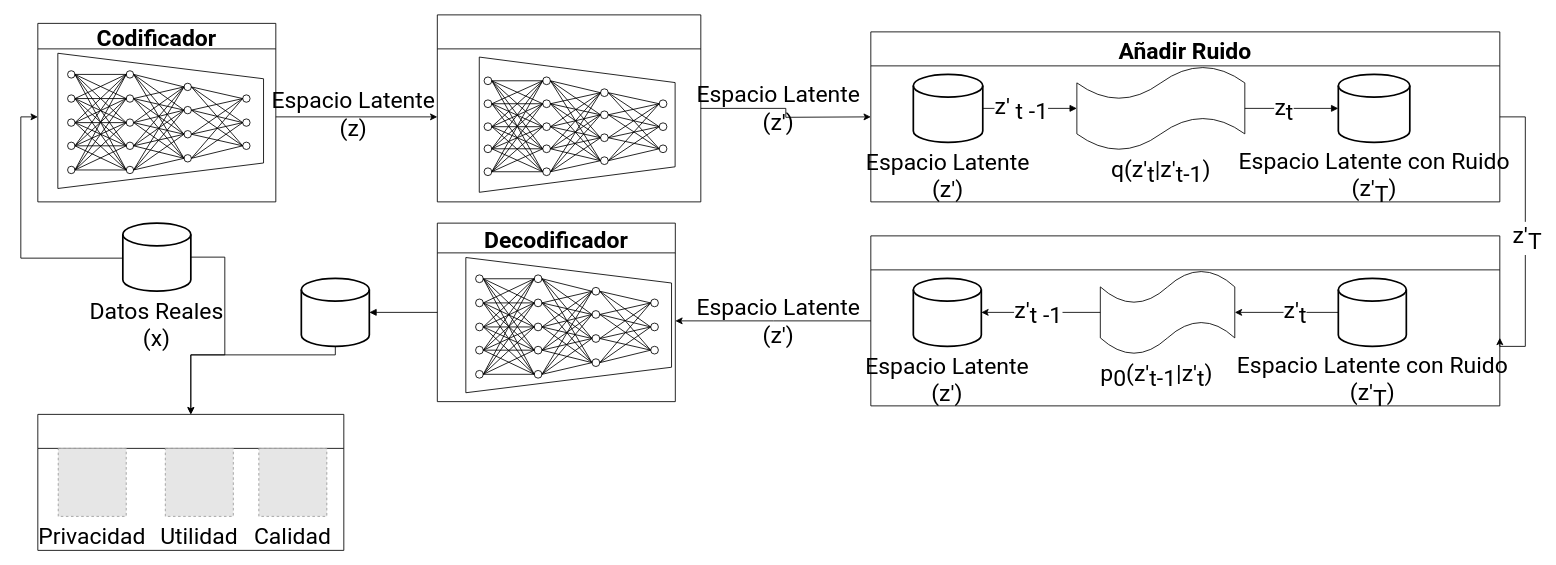
Some shapes in this 1556 by 565 pixel diagram are drawn without their labels. Grey dashed boxes stand in for pictures. Each missing label, with the box of its shape:
Codificador Transformer: (436, 14, 701, 202)
Datos Generados (x'): (300, 277, 370, 347)
Desruido: (1099, 269, 1235, 355)
Eliminar Ruido: (870, 235, 1500, 406)
Ruido Gausiano: (1076, 65, 1245, 151)
Validación: (37, 414, 344, 550)
